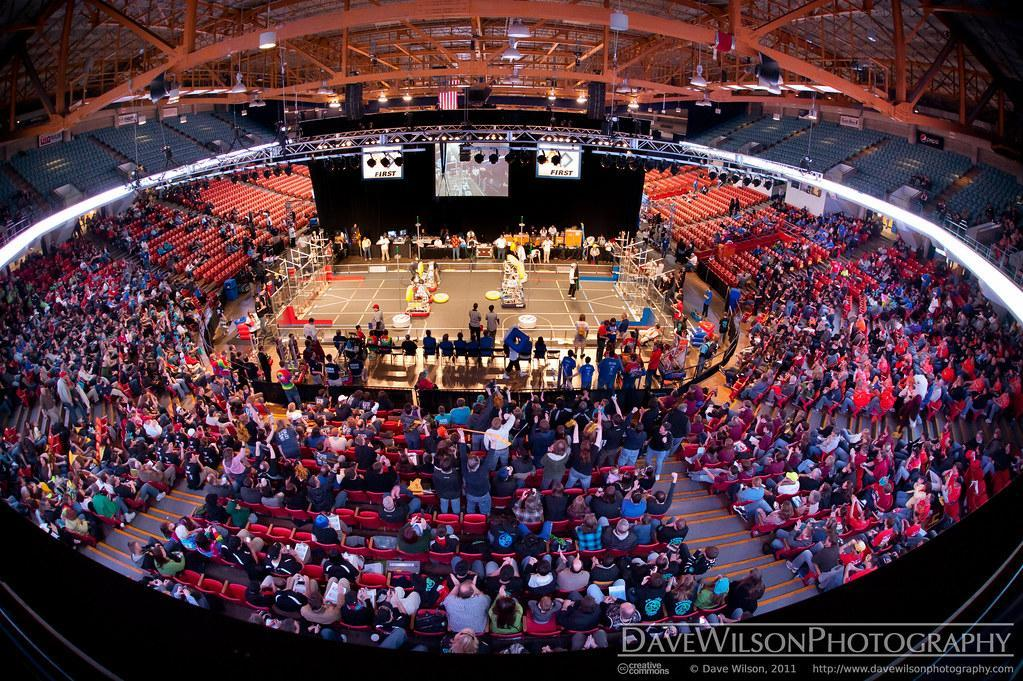robot: (404, 280, 432, 322), (413, 259, 441, 301), (495, 255, 531, 287), (505, 275, 526, 309)
